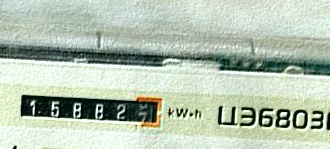1: (27, 97, 38, 116)
2: (115, 102, 127, 121)
5: (49, 100, 61, 118)
7: (137, 111, 149, 122)
8: (70, 100, 83, 118), (93, 101, 105, 120)
screen: (11, 83, 169, 136)
